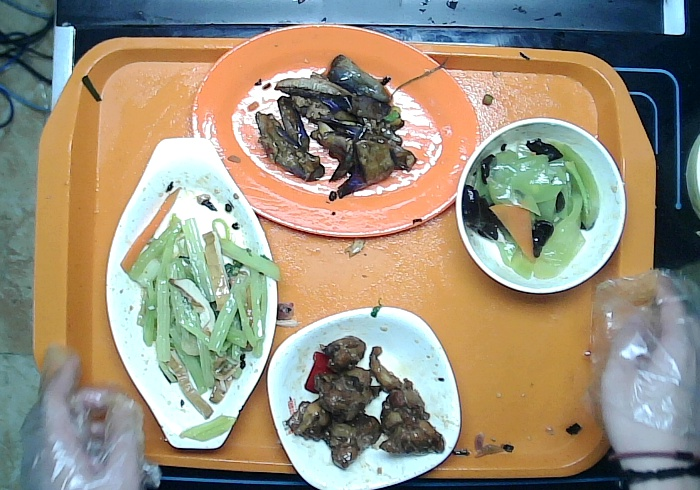NLDX-Bai_Se_Xiao_Fang_Die: (259, 302, 467, 489)
NLDX-Fan_Wan: (450, 109, 636, 298)
NLDX-Ju_Se_Pan: (187, 18, 490, 245)
NLDX-Yu_Pan: (101, 132, 283, 457)
